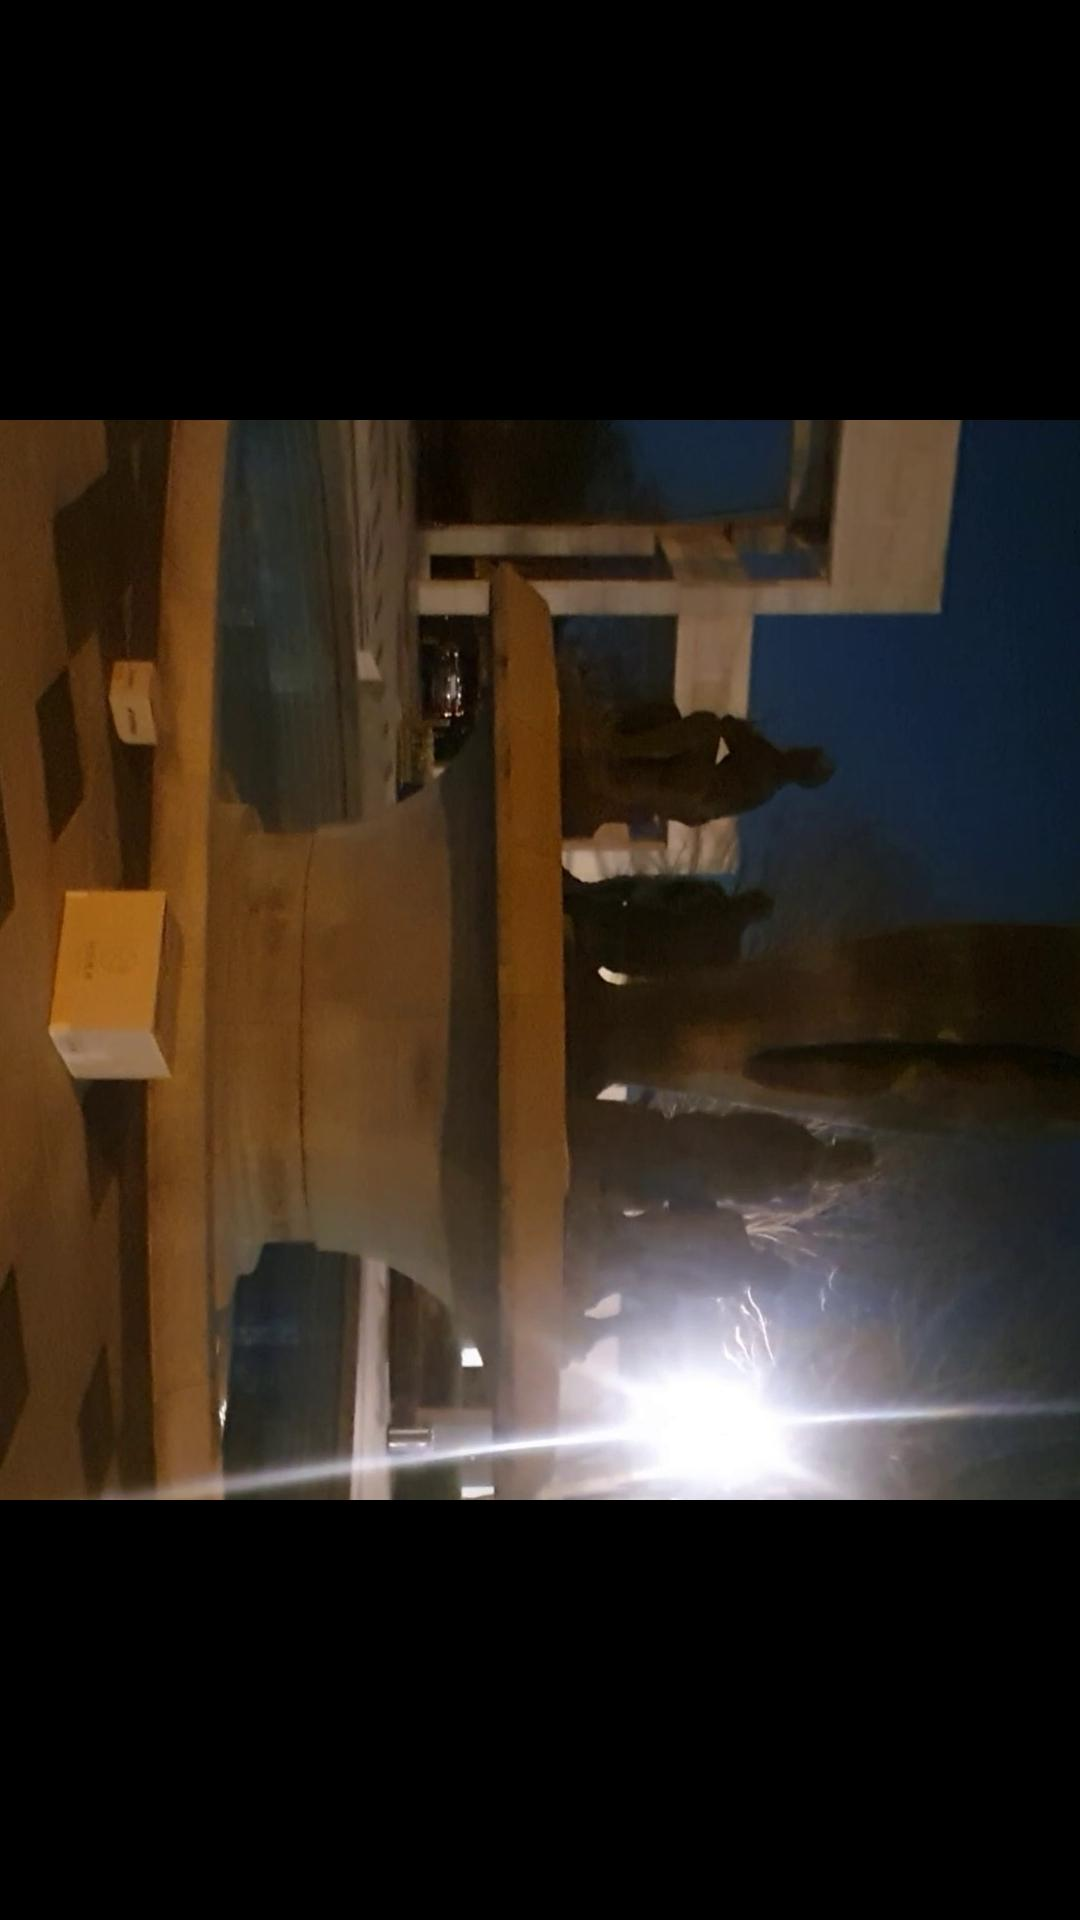Box: (36, 886, 196, 1091), (95, 644, 185, 752)
